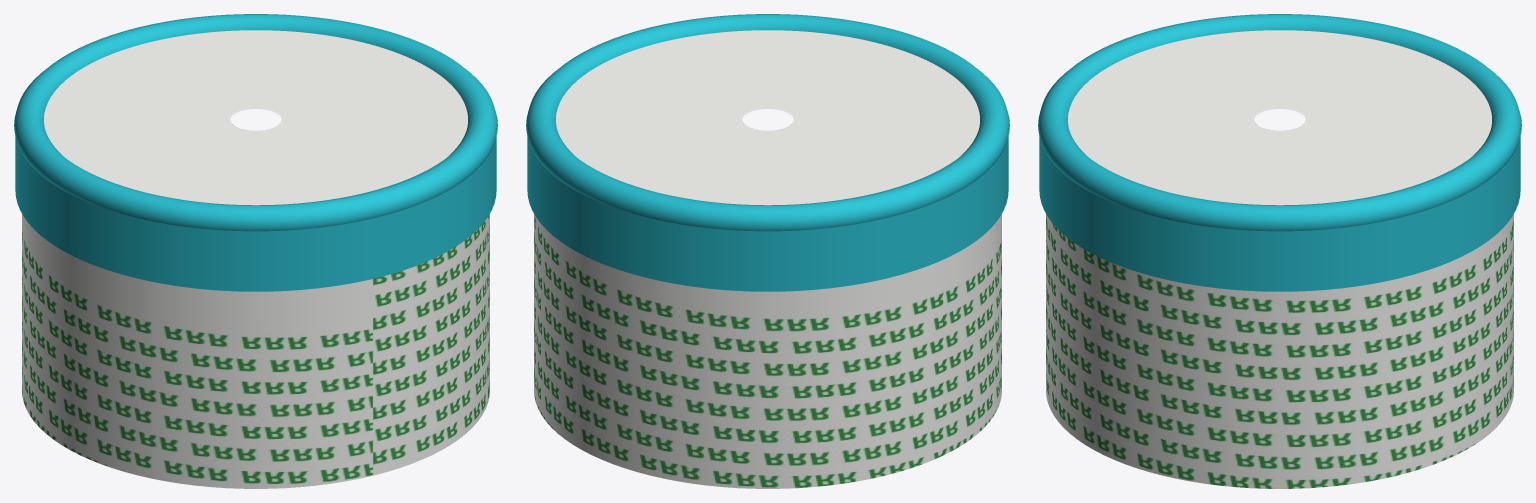
3 views of the same model, side by side, from view 1: azimuth 30°, elevation 25°; view 2: azimuth 150°, elevation 25°; view 3: azimuth 270°, elevation 25° (orthographic).
Visible parts, largest first — view 1: M100-H114; view 2: M100-H114; view 3: M100-H114.
Part boxes in pixels (x1=…): M100-H114: x1=14, y1=14, x2=497, y2=488; M100-H114: x1=526, y1=14, x2=1009, y2=488; M100-H114: x1=1038, y1=14, x2=1521, y2=488.
Size of the model in its own units: 0.185 by 0.1177 by 0.185.
6 materials, 1 textured.
